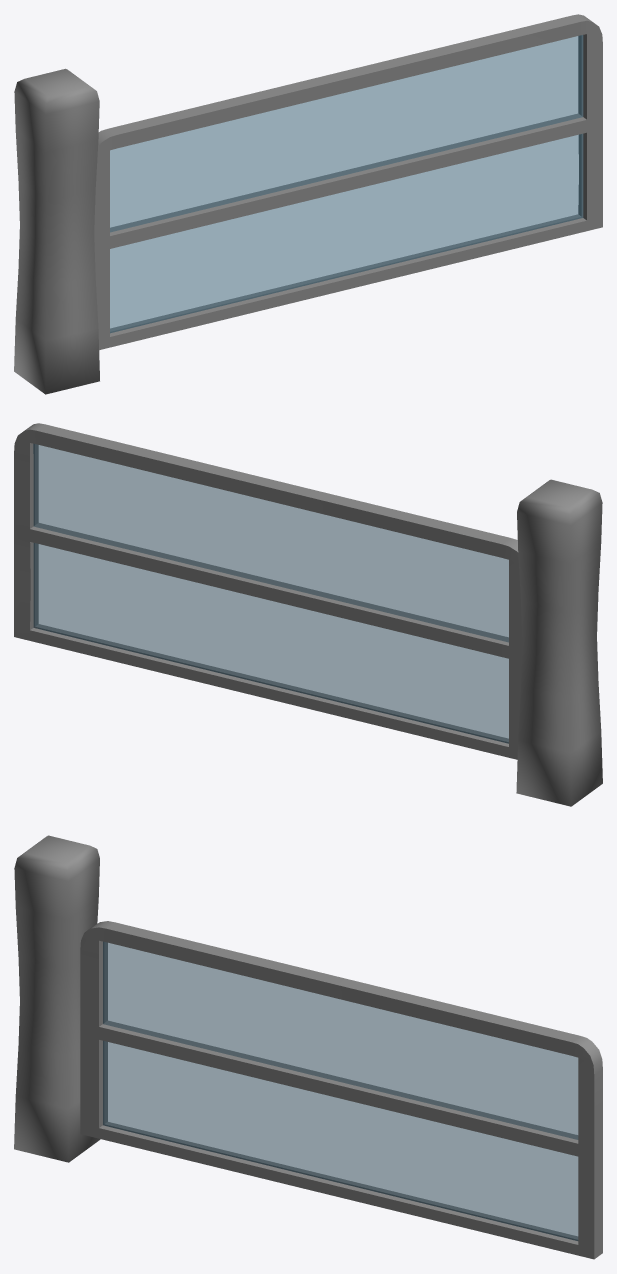
The model's file is GlassHalfWall_Straight_SplitBorder.glb.
The picture shows the model from 3 angles, top to bottom: view 1: azimuth 30°, elevation 25°; view 2: azimuth 150°, elevation 25°; view 3: azimuth 330°, elevation 25°; orthographic projection.
Visible parts, largest first — view 1: 5-StraightGlassBorder, 3-PostNARROWER; view 2: 5-StraightGlassBorder, 3-PostNARROWER; view 3: 5-StraightGlassBorder, 3-PostNARROWER.
Boxes of the visible parts, x1,y1,x2,y2 form: 5-StraightGlassBorder: (94, 14, 602, 349); 3-PostNARROWER: (14, 68, 99, 394); 5-StraightGlassBorder: (14, 423, 522, 759); 3-PostNARROWER: (516, 479, 602, 806); 5-StraightGlassBorder: (80, 921, 602, 1259); 3-PostNARROWER: (14, 835, 100, 1162).
Size of the model in its own units: 2.01 by 0.9929 by 0.1932.
3 materials, 3 textured.
